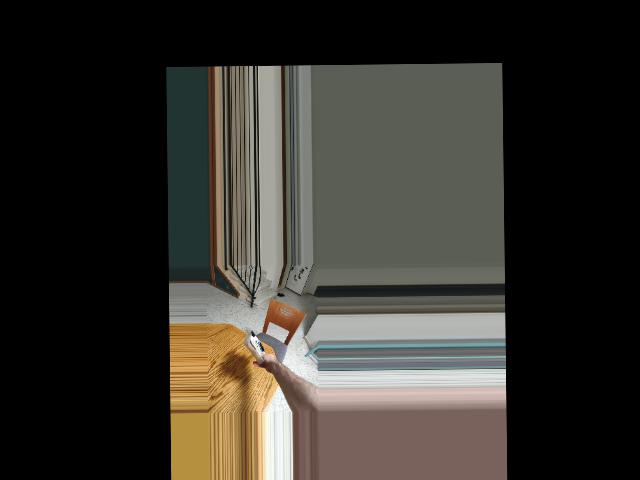cheese: (243, 329, 267, 364)
